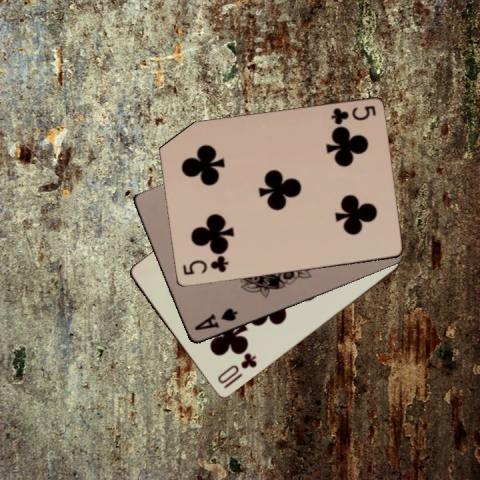10c: (214, 350, 259, 391)
5c: (328, 103, 378, 126), (179, 255, 230, 277)
As: (192, 305, 240, 333)
